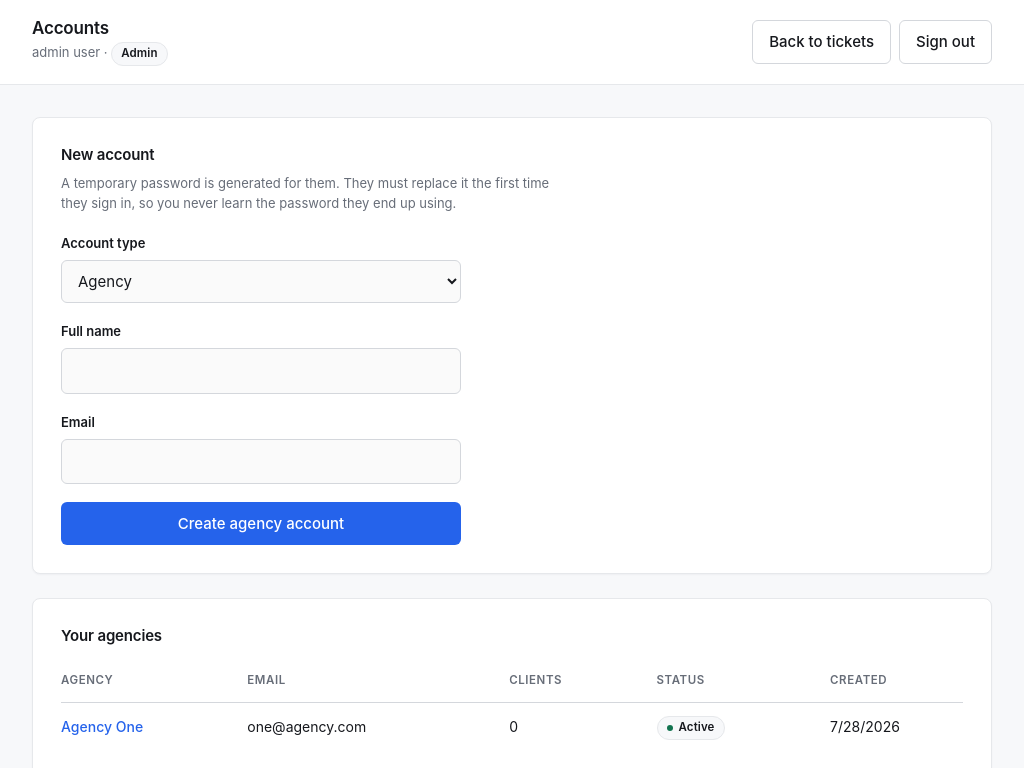
Test: account creation › lets an admin create a client assigned to one of its agencies
The image size is (1024, 768).
Expected: the heading "New account" is shown, x1=61 y1=145 x2=154 y2=164
Select "Client" in the dropdown labelled "Account type". click: point(261, 282)
box: x1=61 y1=260 x2=461 y2=303
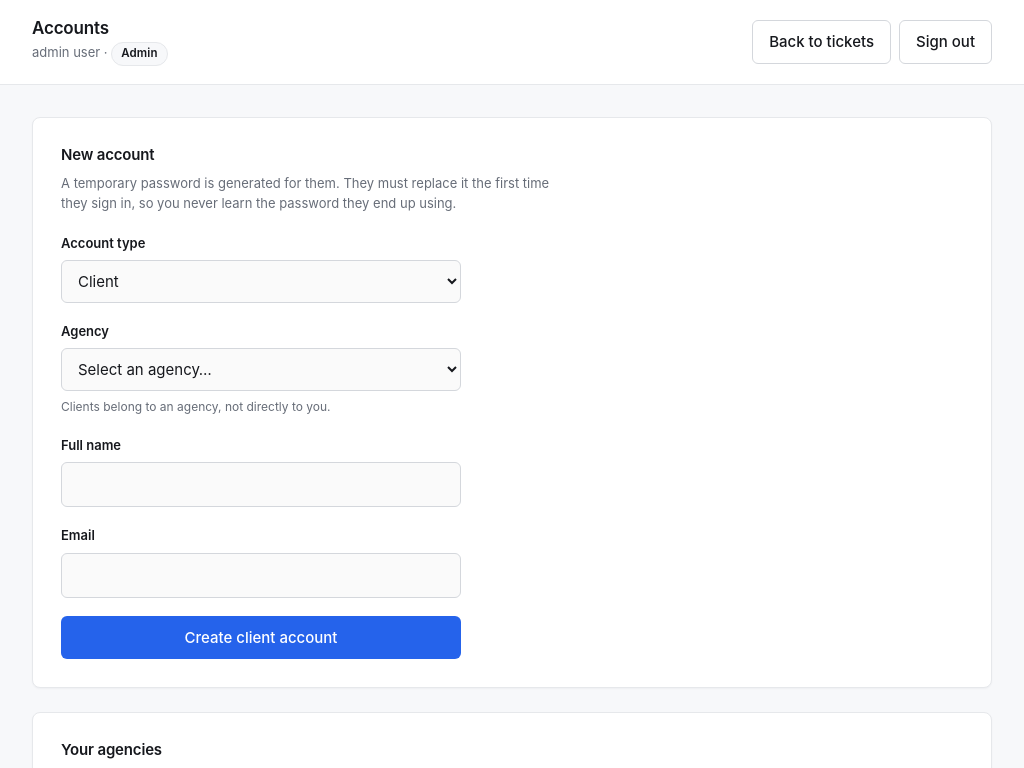
Select "Agency One (one@agency.com)" in the dropdown labelled "Agency". click: point(261, 370)
box: x1=61 y1=348 x2=461 y2=391
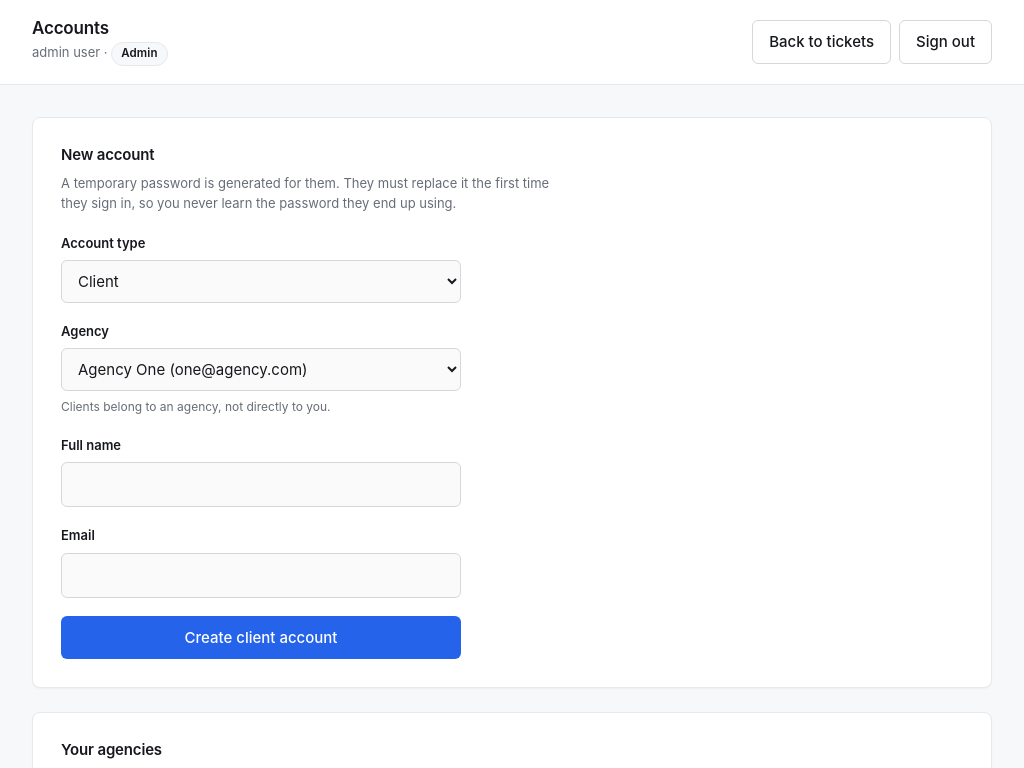
Type "New Client" into the field labelled "Full name". click: point(261, 485)
box: x1=61 y1=462 x2=461 y2=507
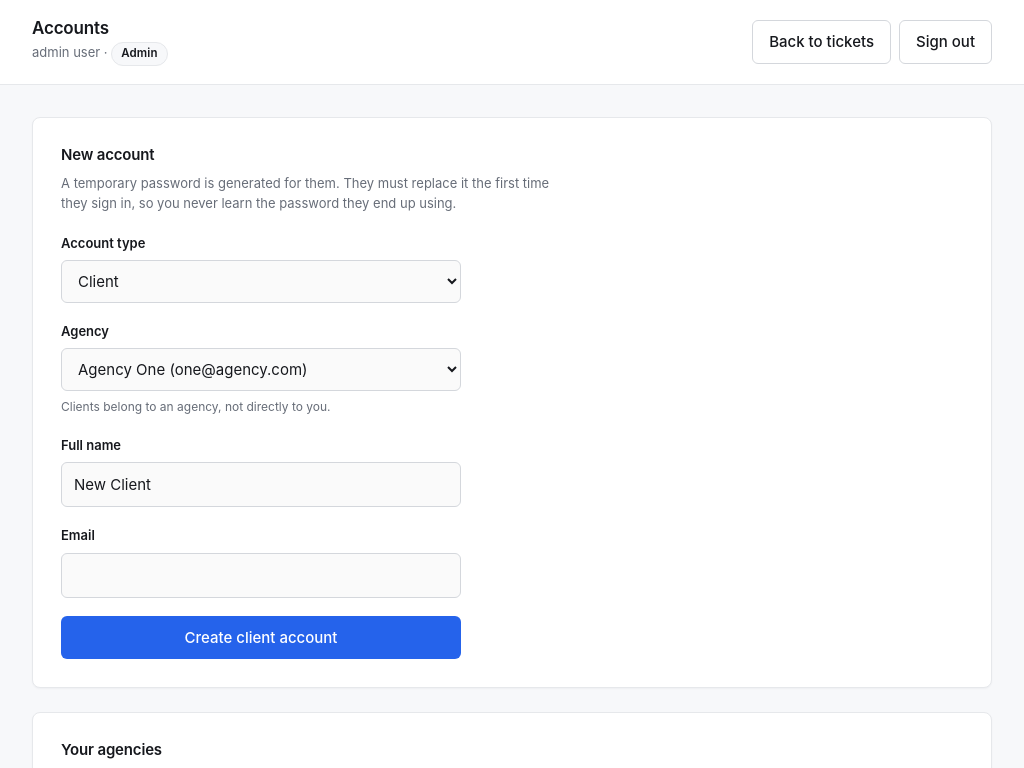
Type "new@client.com" into the field labelled "Email". click: point(261, 575)
box: x1=61 y1=552 x2=461 y2=598
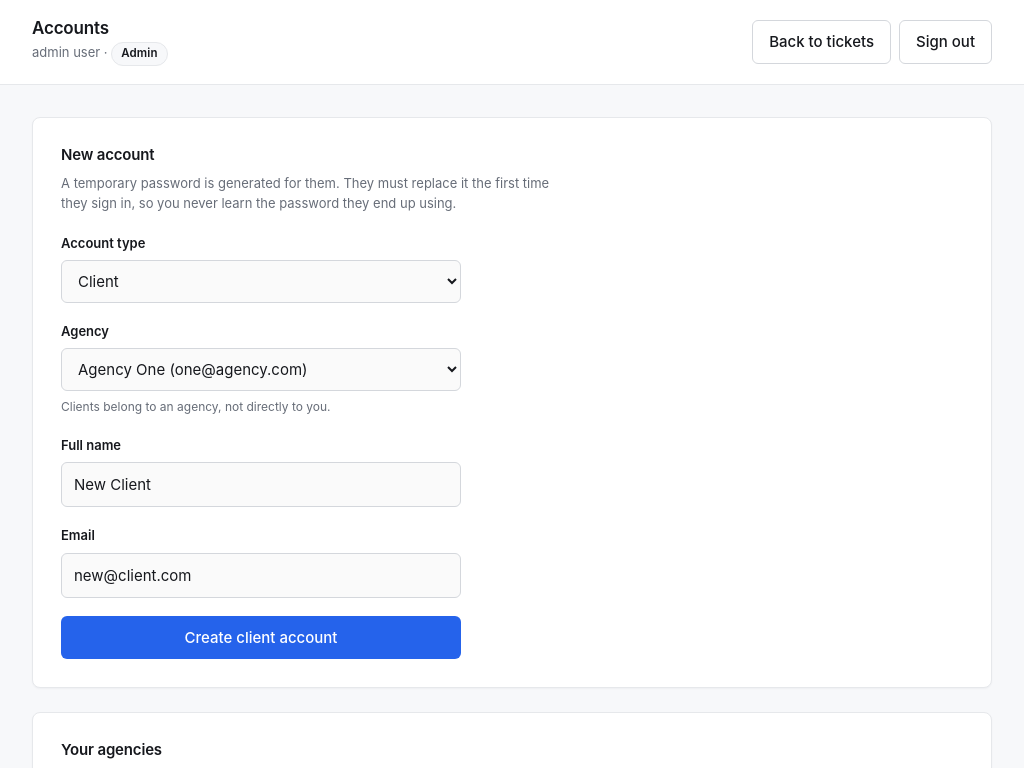
Click the button "Create client account". click: point(261, 637)
box: x1=61 y1=616 x2=461 y2=659
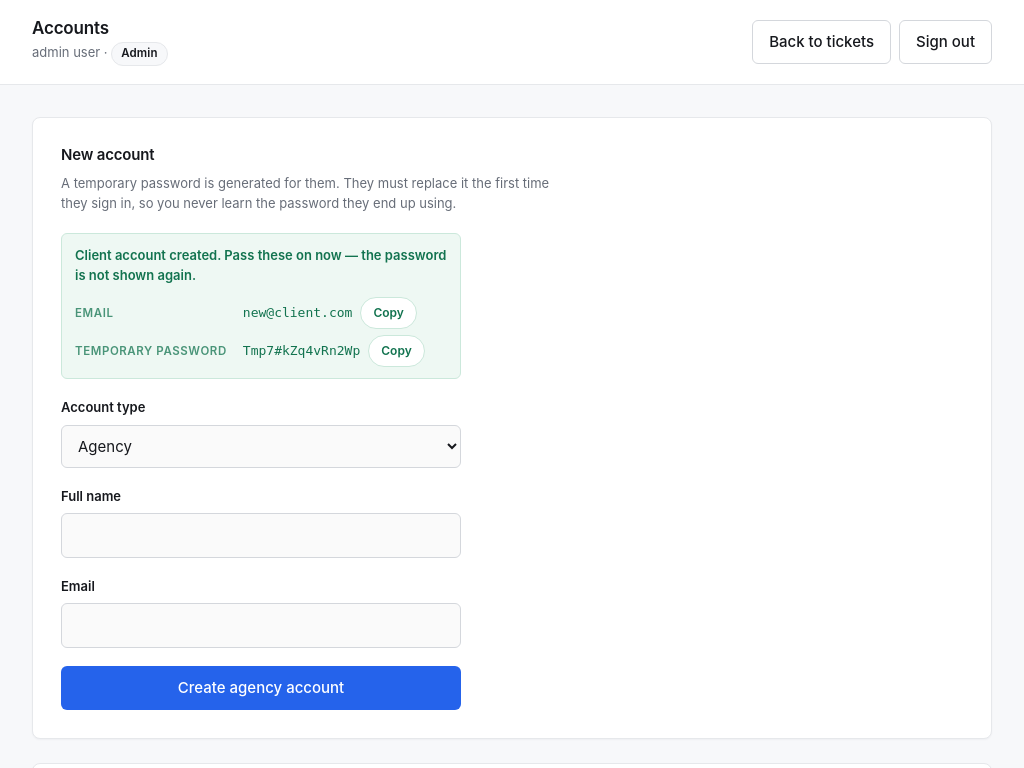
Result: the message is shown at x1=61 y1=233 x2=461 y2=379
